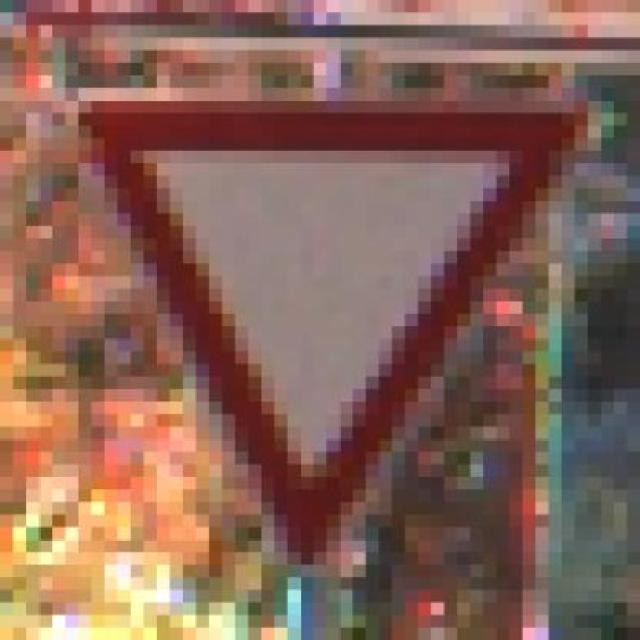Give Way: (52, 62, 614, 590)
